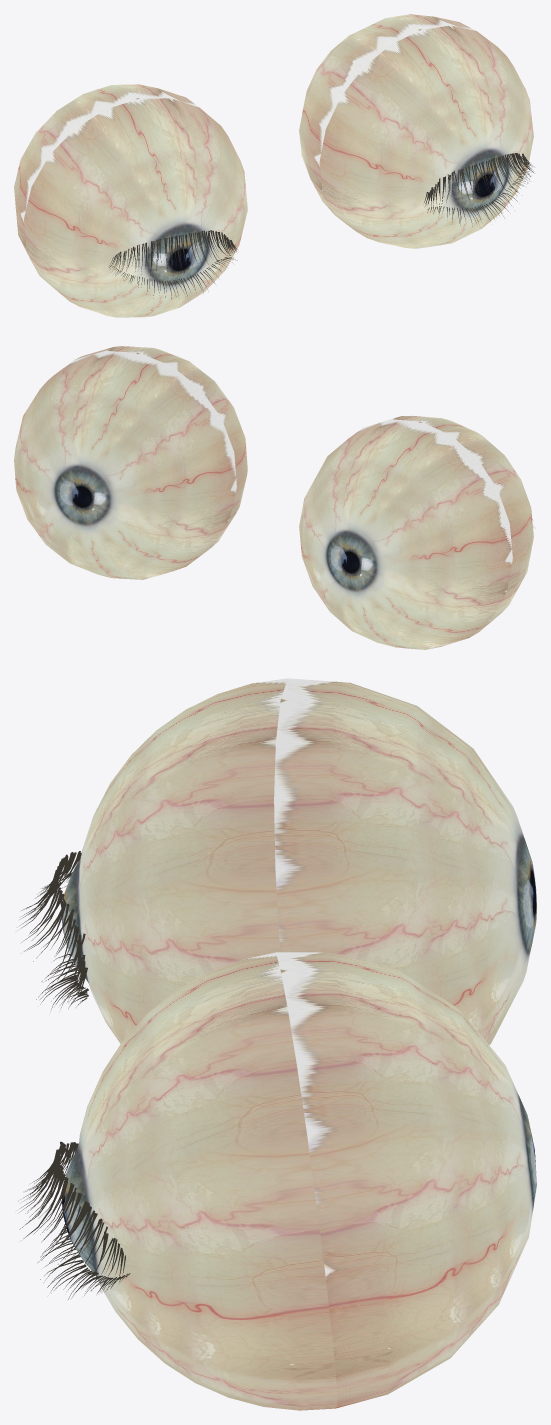
Rendered from eays.gltf.
3 views of the same model, one above another, from view 1: azimuth 30°, elevation 25°; view 2: azimuth 150°, elevation 25°; view 3: azimuth 270°, elevation 25° (orthographic). The views are drawn at different scales.
Parts seen in each view (by area): view 1: eays; view 2: eays; view 3: eays.
Part boxes in pixels (x1,y1,x2,y2): eays: (14, 14, 533, 317); eays: (14, 346, 533, 649); eays: (19, 678, 536, 1410).
Bounding box in the file's own units: 10.07 × 4.19 × 4.75.
3 materials, 2 textured.
